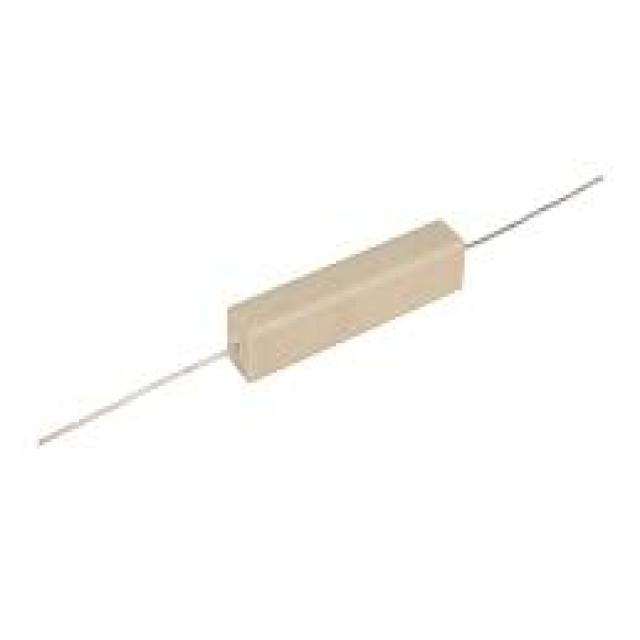Resistor: (223, 216, 467, 381)
